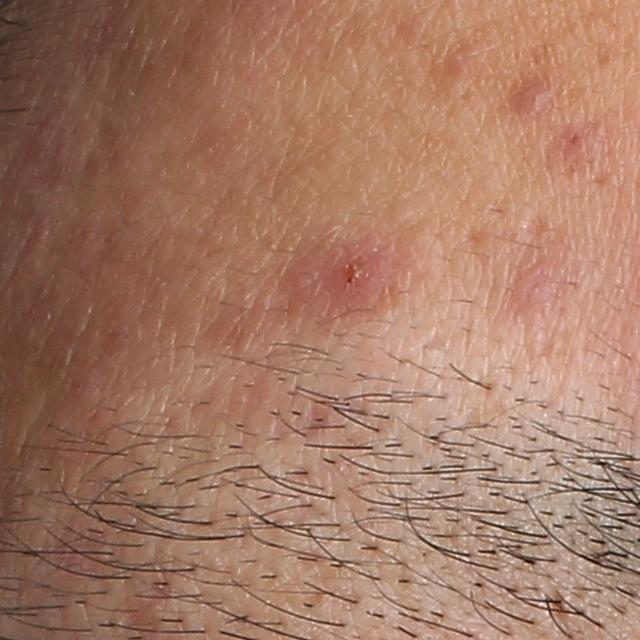atrophic_scar: (523, 210, 545, 241)
papule: (328, 253, 381, 298), (508, 268, 559, 310), (509, 80, 554, 119)
